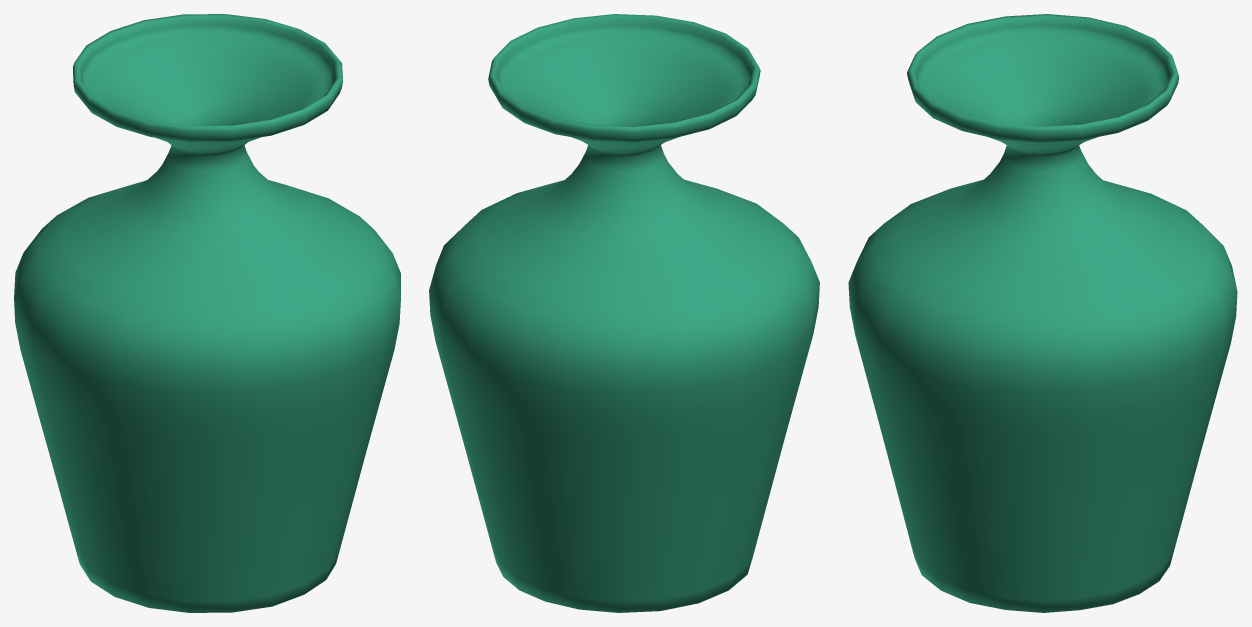
The model's file is Urn_asset.fbx.
3 renders of one model, left to right at view 1: azimuth 30°, elevation 25°; view 2: azimuth 150°, elevation 25°; view 3: azimuth 270°, elevation 25°, orthographic.
Visible parts, largest first — view 1: Urn; view 2: Urn; view 3: Urn.
Boxes of the visible parts, x1,y1,x2,y2 form: Urn: [14, 14, 400, 612]; Urn: [429, 14, 819, 612]; Urn: [848, 14, 1237, 612].
Bounding box in the file's own units: 48.52 × 67.69 × 48.52.
